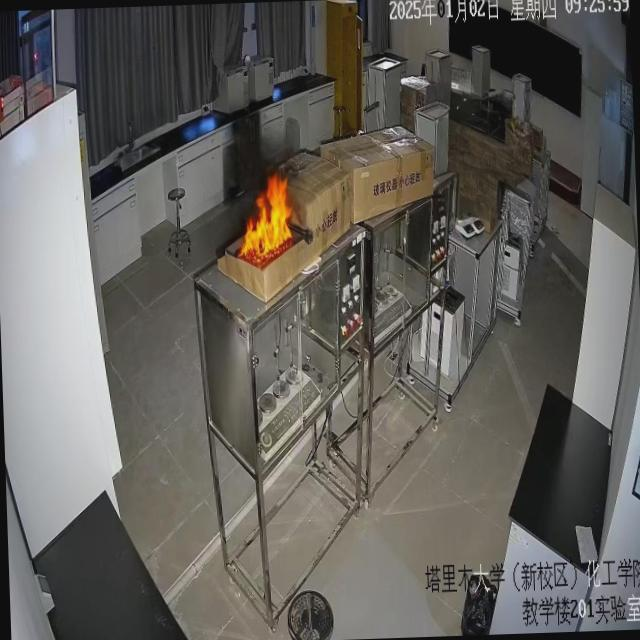fire: (228, 141, 315, 290)
